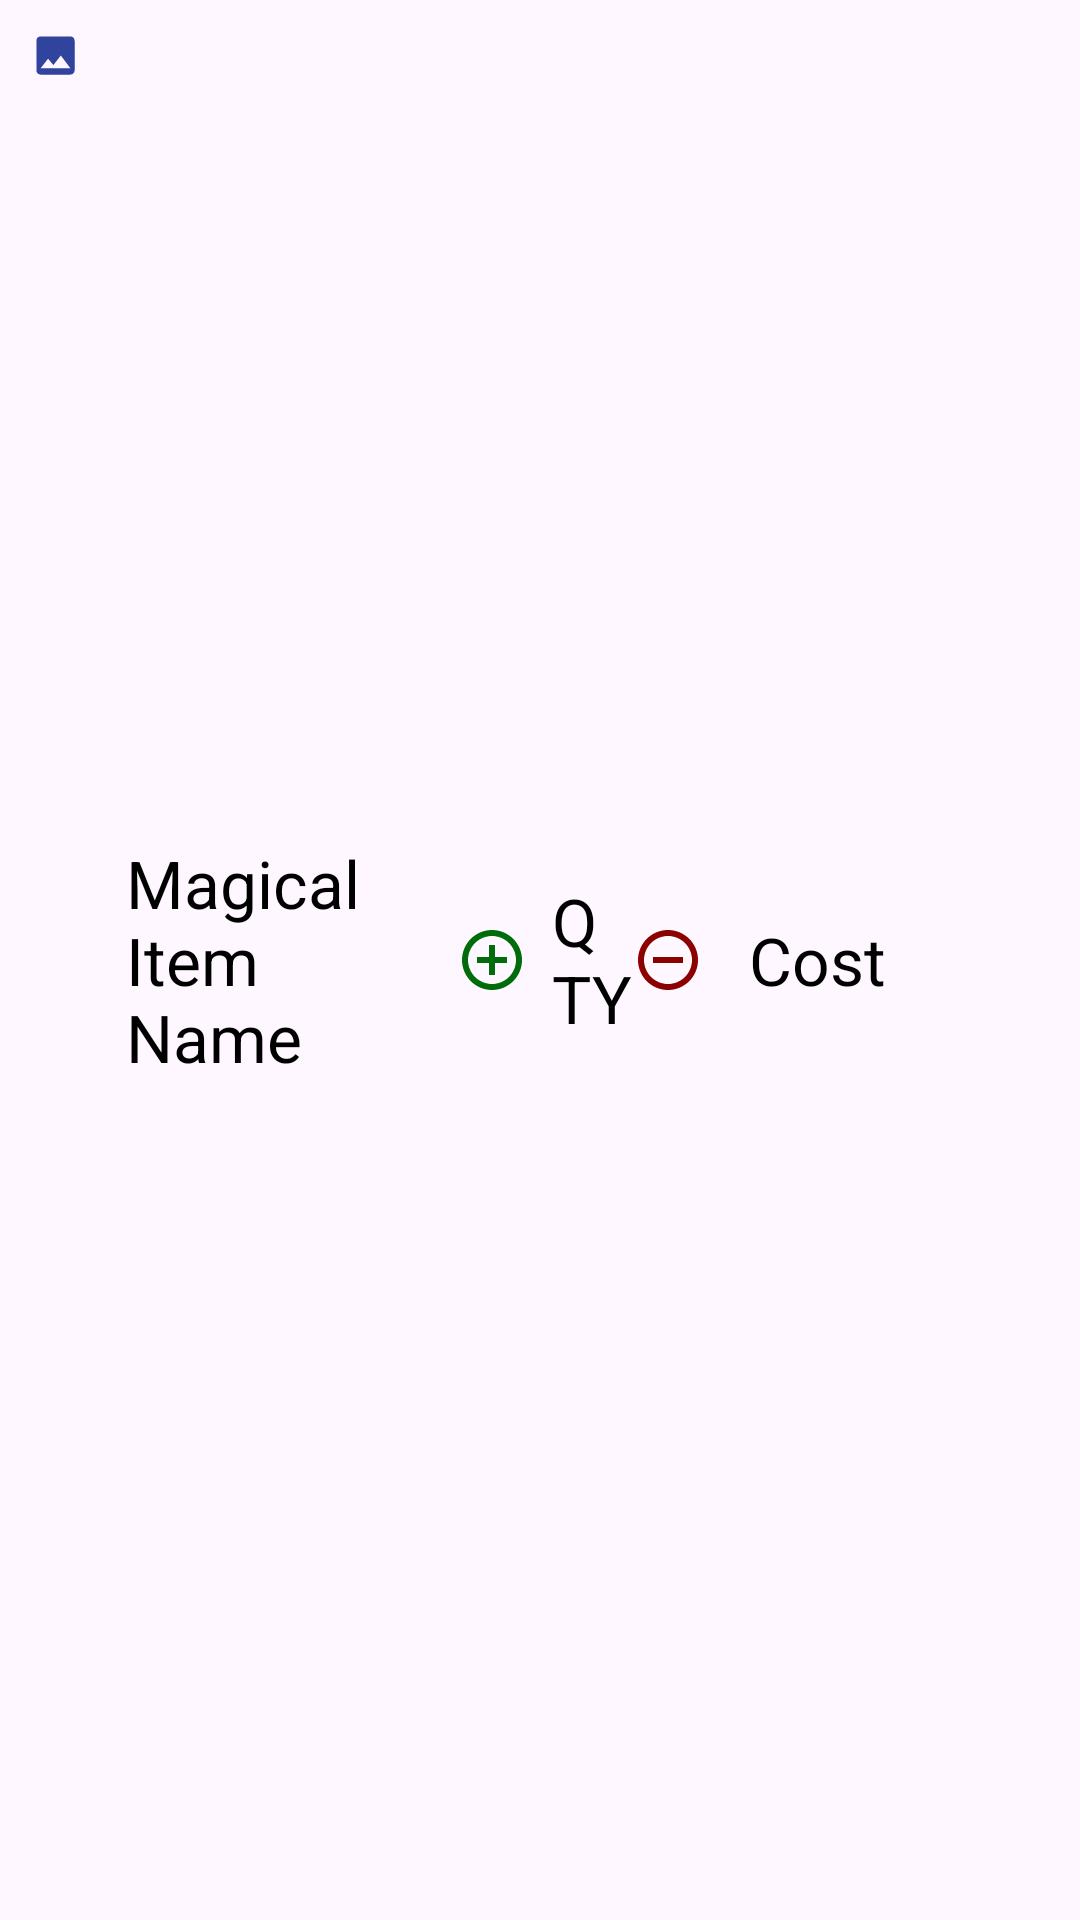

Icon click points for this 1080 x 1920 phone screenshot, format [x,y]:
add circle: [492,960]
subtract circle: [668,960]
